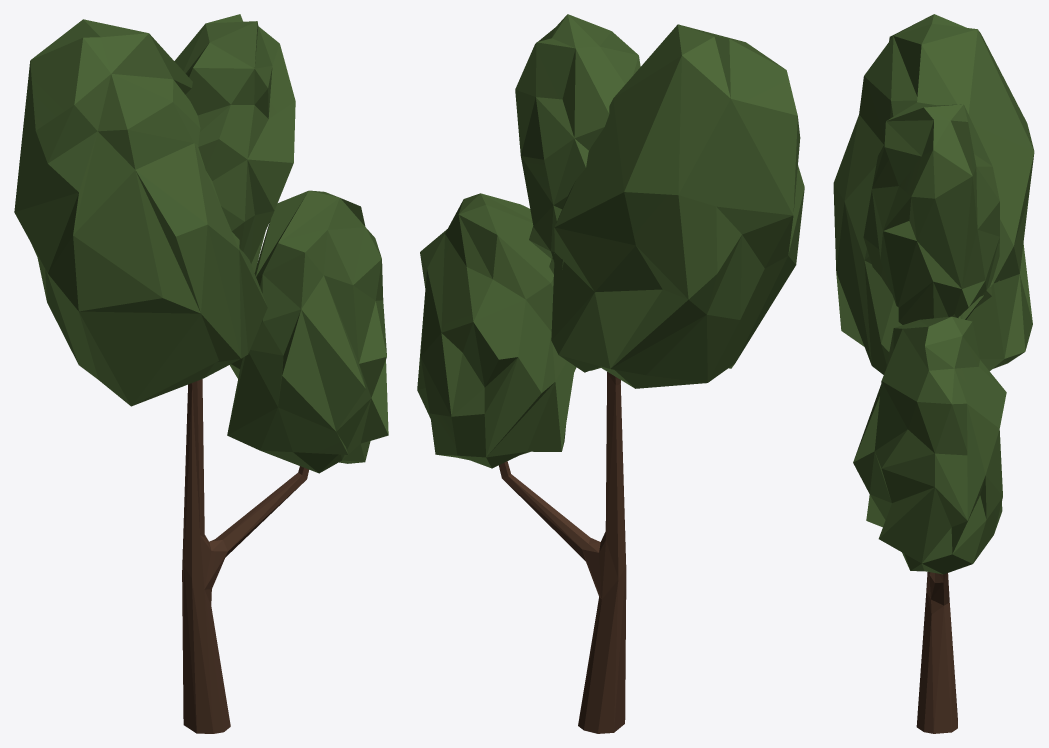
File: SM_hight_tree_06.glb
The picture shows the model from 3 angles, left to right: view 1: azimuth 30°, elevation 25°; view 2: azimuth 150°, elevation 25°; view 3: azimuth 270°, elevation 25°; orthographic projection. The views are drawn at different scales.
Parts seen in each view (by area): view 1: SM_hight_tree_06; view 2: SM_hight_tree_06; view 3: SM_hight_tree_06.
Boxes of the visible parts, box(x1,y1,x2,y2) form: SM_hight_tree_06: box(14, 14, 388, 733); SM_hight_tree_06: box(417, 14, 804, 733); SM_hight_tree_06: box(833, 14, 1034, 733).
Size of the model in its own units: 5.76 by 10.74 by 2.99.
Materials: 1 (1 with a texture image).
